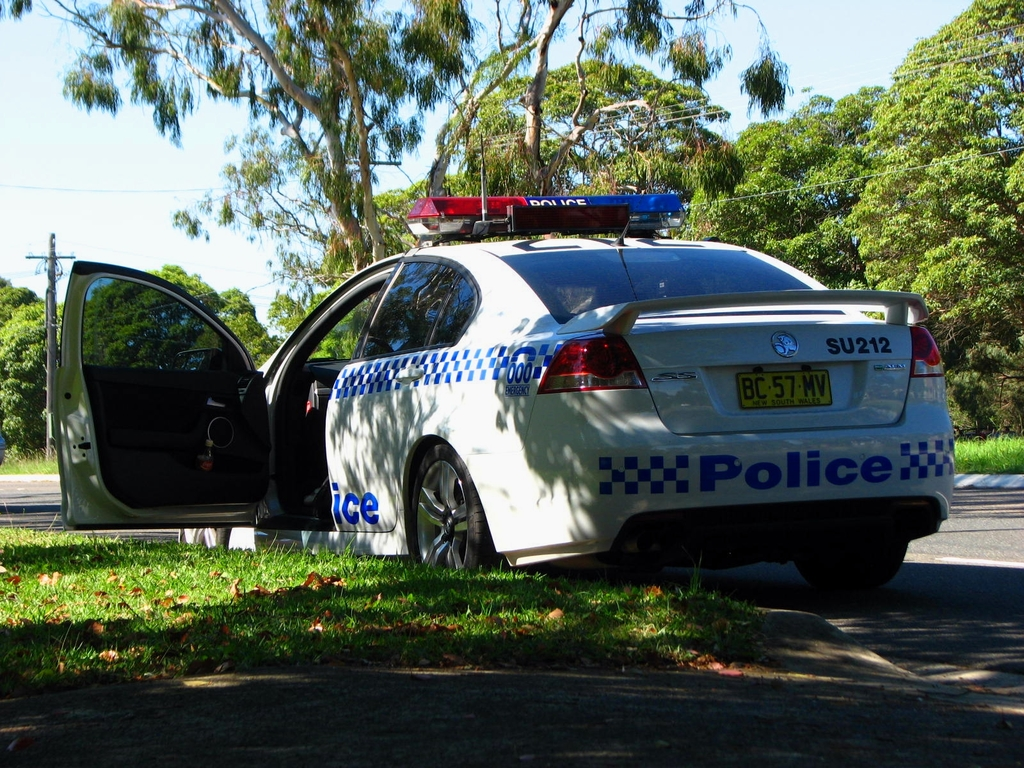Car: (53, 133, 954, 594)
